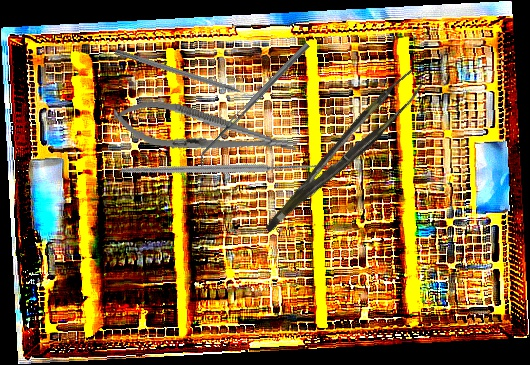Hook Surgical: (119, 63, 346, 264), (113, 48, 260, 103)
Needle Holder: (109, 93, 301, 170)
Spatula Surgical: (193, 42, 315, 167)
Tissue Forceps: (247, 68, 434, 233)
